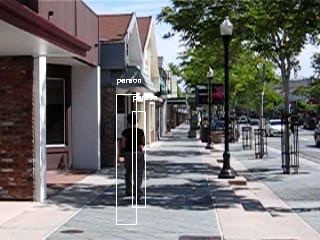person: (120, 111, 148, 202), (119, 111, 147, 202), (121, 111, 149, 202), (120, 110, 148, 201), (120, 112, 148, 203)
target_negative: (82, 120, 107, 228), (120, 151, 152, 205), (31, 206, 138, 218), (208, 208, 302, 221), (312, 145, 317, 230)
